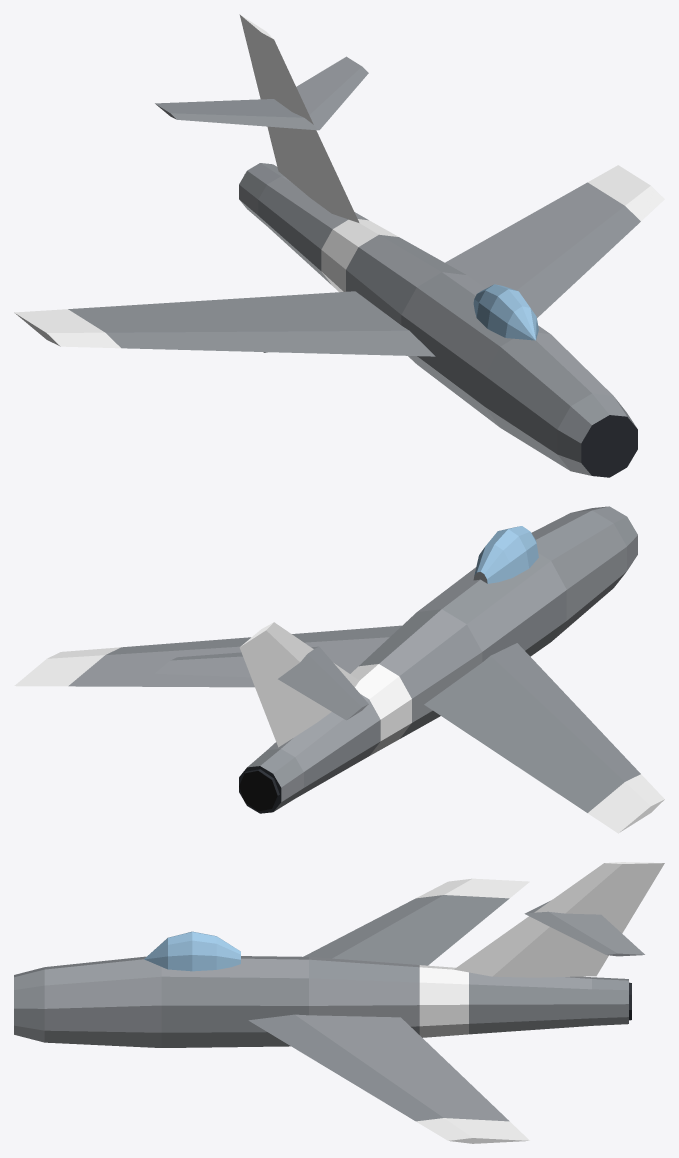
Rendered from mig15bis.glb.
The picture shows the model from 3 angles, top to bottom: view 1: azimuth 30°, elevation 25°; view 2: azimuth 150°, elevation 25°; view 3: azimuth 270°, elevation 25°; orthographic projection. The views are drawn at different scales.
Parts seen in each view (by area): view 1: body; view 2: body; view 3: body.
Part boxes in pixels (x1,y1,x2,y2): body: [14, 14, 664, 477]; body: [14, 506, 664, 833]; body: [14, 862, 664, 1143].
Bounding box in the file's own units: 10.08 × 3.31 × 10.69.
